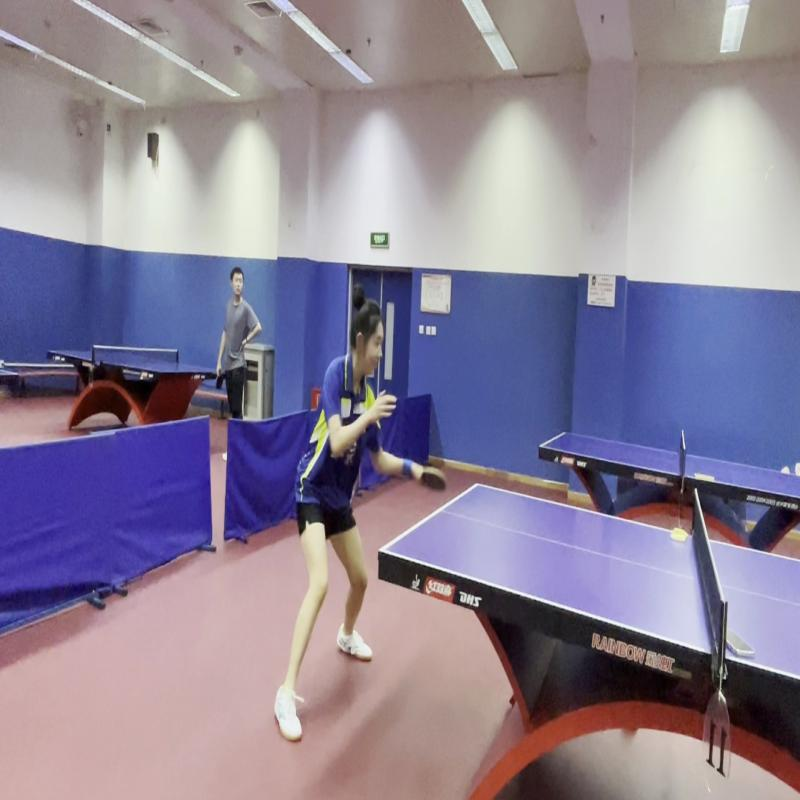bats: (416, 448, 453, 507)
